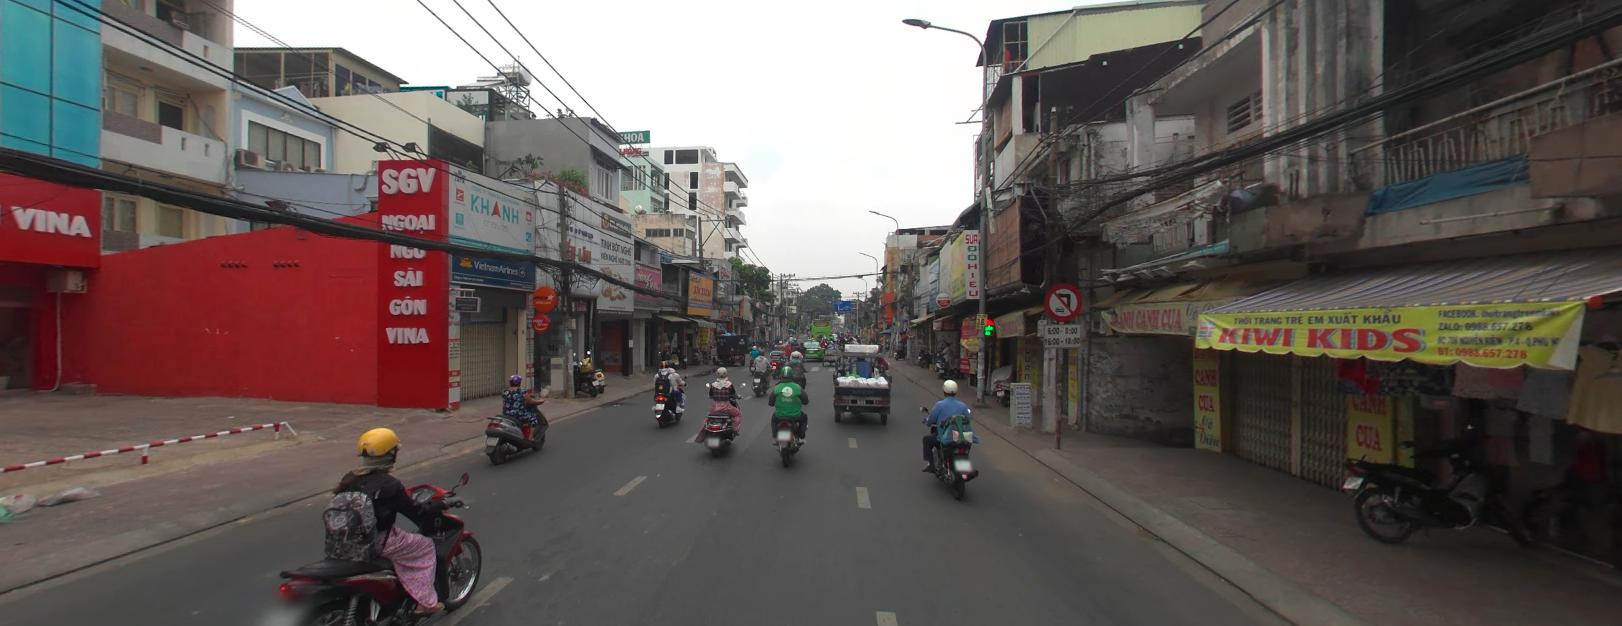Cam re: (1045, 282, 1082, 320)
